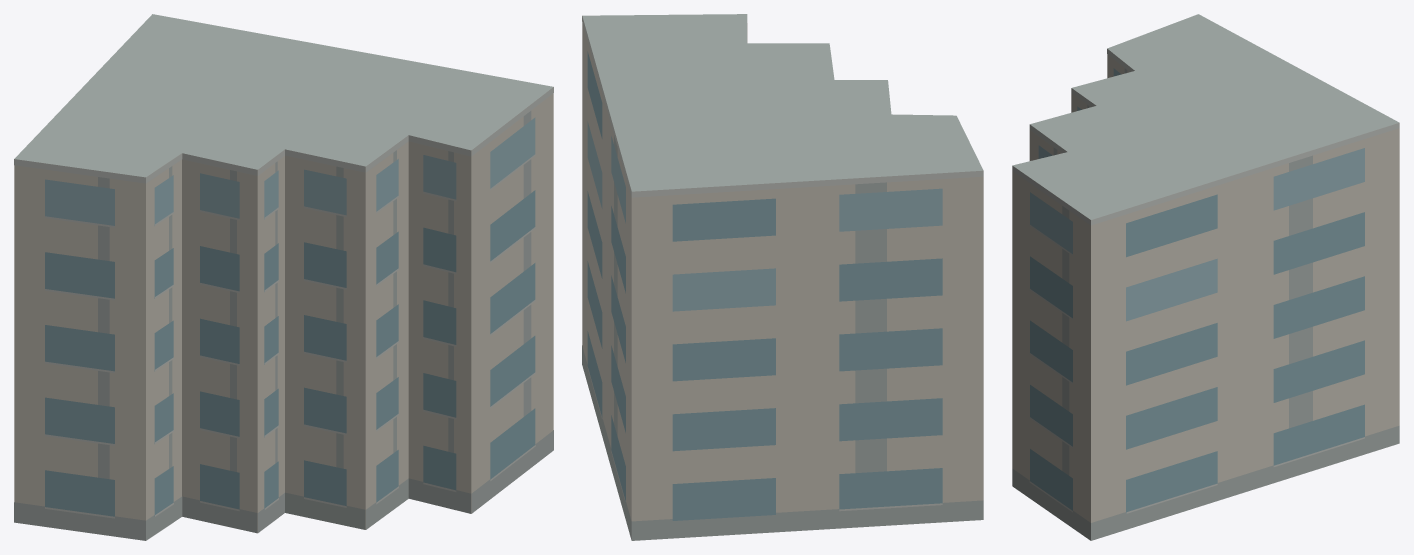
Rendered from survey-upis-32822675.glb.
3 renders of one model, left to right at view 1: azimuth 30°, elevation 25°; view 2: azimuth 150°, elevation 25°; view 3: azimuth 270°, elevation 25°, orthographic. The views are drawn at different scales.
Parts seen in each view (by area): view 1: survey-upis-32822675.tmp; view 2: survey-upis-32822675.tmp; view 3: survey-upis-32822675.tmp.
Part boxes in pixels (x1,y1,x2,y2): survey-upis-32822675.tmp: [14, 14, 553, 540]; survey-upis-32822675.tmp: [582, 14, 983, 540]; survey-upis-32822675.tmp: [1012, 14, 1399, 540].
Size of the model in its own units: 19.72 by 14.3 by 15.66.
